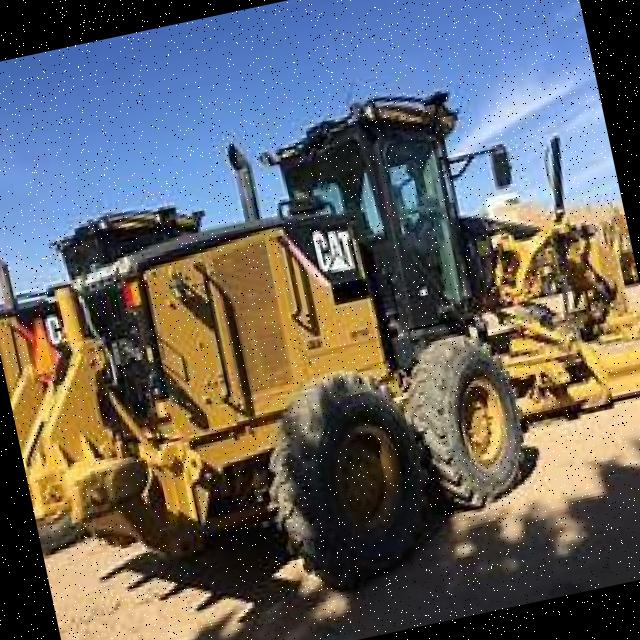Grader: (9, 21, 640, 620)
